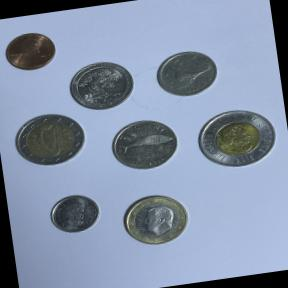coin: (187, 100, 280, 176), (6, 106, 91, 172), (116, 186, 196, 252), (105, 112, 184, 176), (64, 55, 140, 115), (43, 186, 106, 240), (0, 26, 60, 76)
